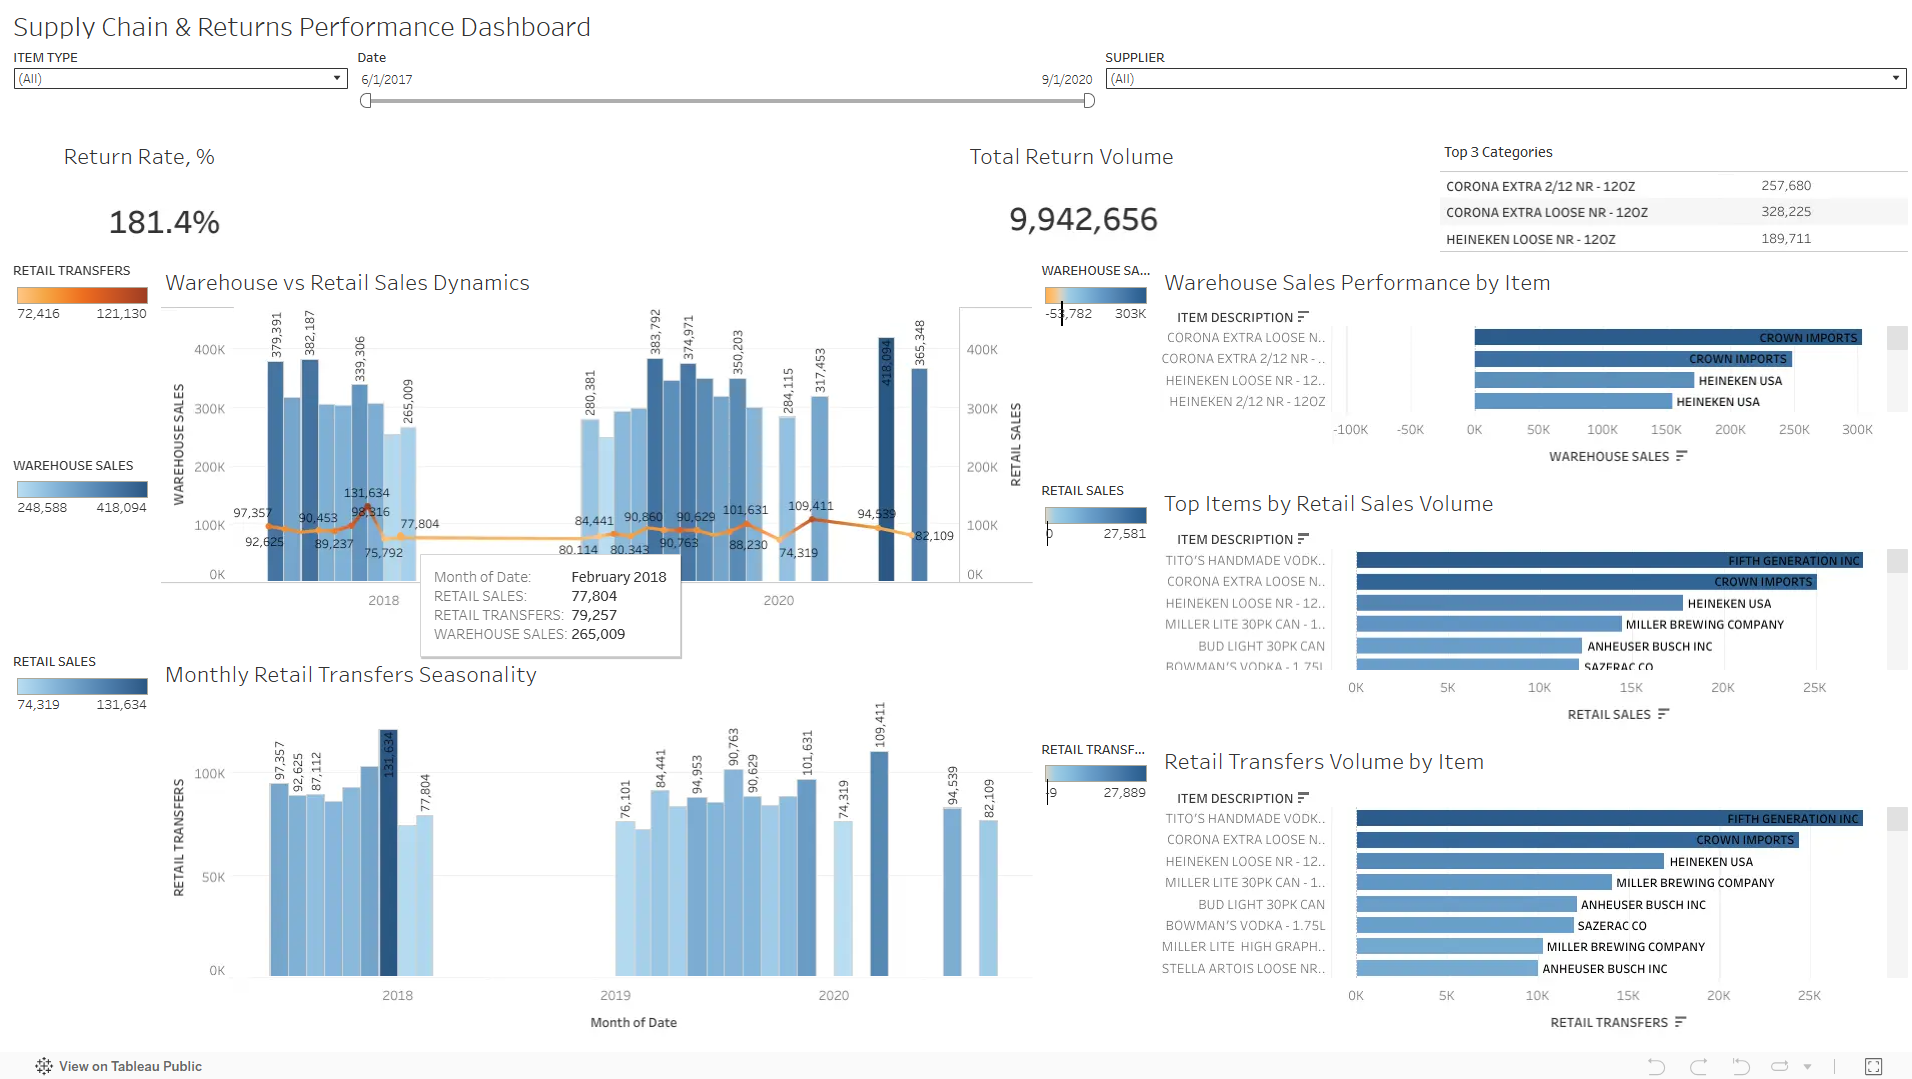

The dashboard page shown, as its layout file describes it:
{"tool":"tableau","page":{"name":"Supply Chain & Returns Performance Dashboard","canvas":[1000,1000],"units":"permille","ordinal":1},"visuals":[{"type":"title","box":[4.8,9.3,990.3,37.2]},{"type":"filter","title":"Warehouse vs Retail Sales Dynamics","param":"[federated.0uptq1r1pvoviq1bdfple13xo2lu].[none:ITEM TYPE:nk]","box":[4.8,46.5,194.3,82.5]},{"type":"filter","title":"Warehouse vs Retail Sales Dynamics","param":"[federated.0uptq1r1pvoviq1bdfple13xo2lu].[none:Date:qk]","box":[199.2,46.5,374.2,82.5]},{"type":"filter","title":"Warehouse vs Retail Sales Dynamics","param":"[federated.0uptq1r1pvoviq1bdfple13xo2lu].[none:SUPPLIER:nk]","box":[573.3,46.5,421.8,82.5]},{"type":"worksheet","title":" Return Rate","mark":"Automatic","box":[4.8,129.1,495.2,118.8]},{"type":"worksheet","title":"Total Sales","mark":"Automatic","box":[500,129.1,247.3,118.8]},{"type":"worksheet","title":"Top 10 Categories ","mark":"Bar","rows":["ITEM DESCRIPTION"],"cols":["SUM Supplier war (copy)_0421947210272769"],"box":[747.3,129.1,247.8,118.8]},{"type":"legend","title":"Warehouse vs Retail Sales Dynamics","param":"[federated.0uptq1r1pvoviq1bdfple13xo2lu].[sum:RETAIL SALES:qk]","box":[4.8,247.9,76.8,184.4]},{"type":"worksheet","title":"Warehouse vs Retail Sales Dynamics","mark":"Bar","rows":["WAREHOUSE SALES","RETAIL SALES"],"cols":["Date"],"box":[81.6,247.9,458.2,370]},{"type":"legend","title":"Warehouse Sales Performance by Item","param":"[federated.0uptq1r1pvoviq1bdfple13xo2lu].[sum:WAREHOUSE SALES:qk]","box":[539.8,247.9,61.7,208.3]},{"type":"worksheet","title":"Warehouse Sales Performance by Item","mark":"Bar","rows":["ITEM DESCRIPTION"],"cols":["WAREHOUSE SALES"],"box":[601.6,247.9,393.6,208.3]},{"type":"legend","title":"Warehouse vs Retail Sales Dynamics","param":"[federated.0uptq1r1pvoviq1bdfple13xo2lu].[sum:WAREHOUSE SALES:qk]","box":[4.8,432.3,76.8,185.6]},{"type":"legend","title":"Top Items by Retail Sales Volume","param":"[federated.0uptq1r1pvoviq1bdfple13xo2lu].[sum:RETAIL SALES:qk]","box":[539.8,456.2,61.7,243.8]},{"type":"worksheet","title":"Top Items by Retail Sales Volume","mark":"Automatic","rows":["ITEM DESCRIPTION"],"cols":["RETAIL SALES"],"box":[601.6,456.2,393.6,243.8]},{"type":"legend","title":"Monthly Retail Transfers Seasonality","param":"[federated.0uptq1r1pvoviq1bdfple13xo2lu].[sum:RETAIL TRANSFERS:qk]","box":[4.8,617.9,76.8,372.8]},{"type":"worksheet","title":"Monthly Retail Transfers Seasonality","mark":"Bar","rows":["RETAIL TRANSFERS"],"cols":["Date"],"box":[81.6,617.9,458.2,372.8]},{"type":"legend","title":"Retail Transfers Volume by Item","param":"[federated.0uptq1r1pvoviq1bdfple13xo2lu].[sum:RETAIL TRANSFERS:qk]","box":[539.8,700,61.7,290.7]},{"type":"worksheet","title":"Retail Transfers Volume by Item","mark":"Automatic","rows":["ITEM DESCRIPTION"],"cols":["RETAIL TRANSFERS"],"box":[601.6,700,393.6,290.7]}]}

Visuals, with their boxes on the dashboard's canvas, which has no fixed pixel size, in thousandths of its width and height (x1, y1, x2, y2). These are canvas units, not pixel positions in the 1912x1079 screenshot, which may show the page scaled, cropped or inside an application window:
title: [5,9,995,46]
"Warehouse vs Retail Sales Dynamics" filter: [5,46,199,129]
"Warehouse vs Retail Sales Dynamics" filter: [199,46,573,129]
"Warehouse vs Retail Sales Dynamics" filter: [573,46,995,129]
" Return Rate" worksheet: [5,129,500,248]
"Total Sales" worksheet: [500,129,747,248]
"Top 10 Categories " worksheet (Bar marks): [747,129,995,248]
"Warehouse vs Retail Sales Dynamics" legend: [5,248,82,432]
"Warehouse vs Retail Sales Dynamics" worksheet (Bar marks): [82,248,540,618]
"Warehouse Sales Performance by Item" legend: [540,248,602,456]
"Warehouse Sales Performance by Item" worksheet (Bar marks): [602,248,995,456]
"Warehouse vs Retail Sales Dynamics" legend: [5,432,82,618]
"Top Items by Retail Sales Volume" legend: [540,456,602,700]
"Top Items by Retail Sales Volume" worksheet: [602,456,995,700]
"Monthly Retail Transfers Seasonality" legend: [5,618,82,991]
"Monthly Retail Transfers Seasonality" worksheet (Bar marks): [82,618,540,991]
"Retail Transfers Volume by Item" legend: [540,700,602,991]
"Retail Transfers Volume by Item" worksheet: [602,700,995,991]
